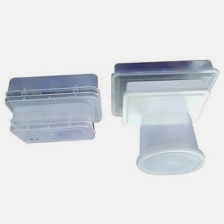plastic_box: (104, 55, 224, 130), (0, 68, 105, 126), (130, 117, 209, 181), (5, 96, 99, 148)
